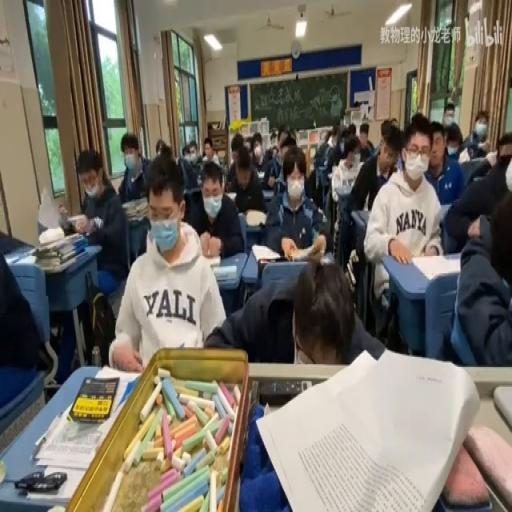calculator: (257, 341, 477, 509), (34, 414, 106, 471), (24, 462, 85, 502), (411, 252, 459, 278), (38, 186, 64, 230), (493, 384, 512, 435), (34, 253, 82, 273), (36, 230, 82, 250), (349, 206, 368, 242), (121, 195, 149, 219), (250, 242, 280, 262), (245, 209, 267, 228), (211, 263, 237, 279), (438, 202, 452, 226), (333, 179, 352, 196), (66, 213, 88, 225), (202, 253, 221, 266), (458, 146, 470, 164), (262, 188, 275, 202), (224, 189, 237, 201), (216, 148, 226, 163), (320, 253, 334, 263), (318, 160, 328, 170), (257, 171, 265, 179), (326, 171, 333, 179)
paper: (211, 256, 383, 364), (65, 142, 128, 361), (442, 132, 510, 256), (262, 145, 328, 259), (346, 121, 402, 227), (0, 236, 42, 371), (224, 141, 267, 219), (117, 132, 149, 204), (462, 111, 492, 158), (179, 136, 204, 188), (438, 102, 461, 158), (323, 124, 349, 170), (276, 129, 298, 165), (202, 135, 220, 165), (261, 128, 277, 159), (497, 135, 512, 162), (230, 132, 244, 155), (380, 120, 394, 140), (242, 132, 254, 154), (154, 138, 168, 154), (328, 135, 337, 148), (347, 124, 356, 136), (182, 142, 188, 156), (358, 135, 366, 145), (390, 117, 397, 125)
person: (68, 377, 118, 422), (255, 377, 312, 407)
